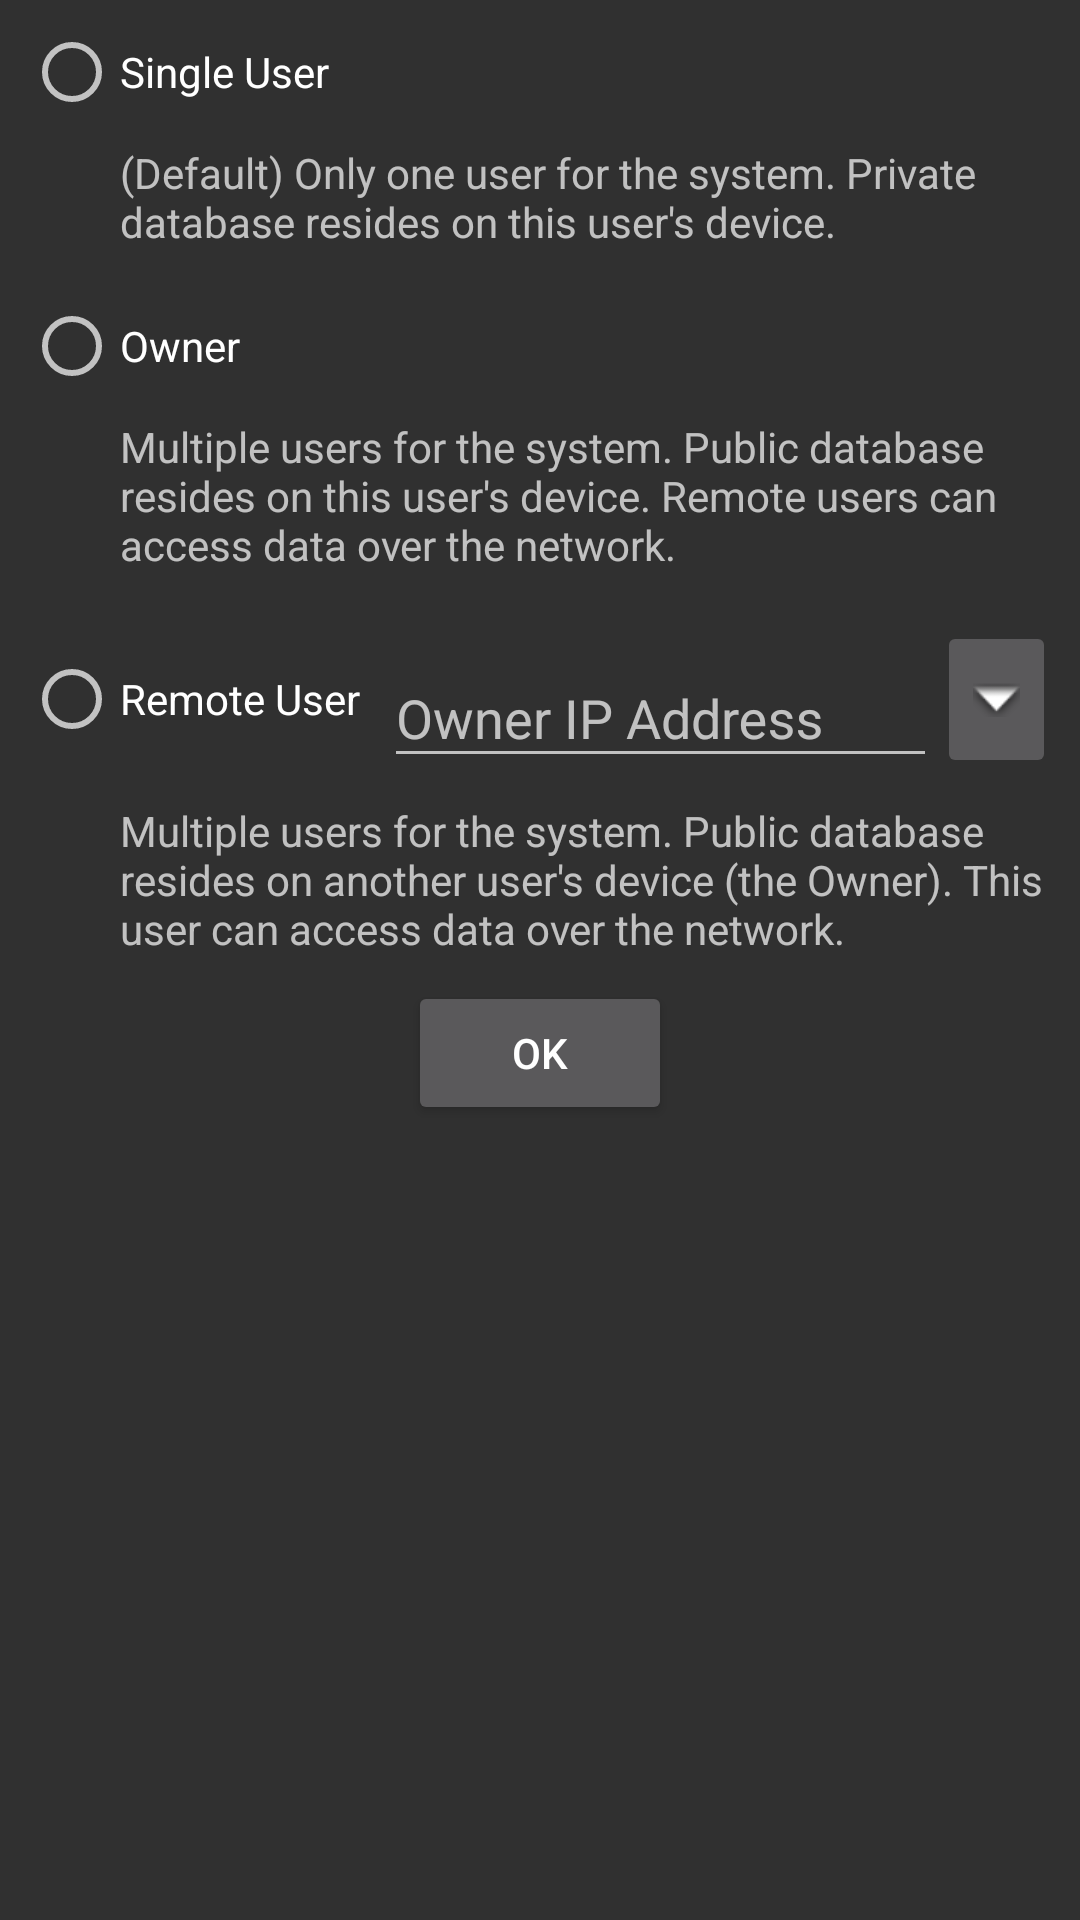

Where icons sit on this 1080 x 1920 app screen, as region(x1, y1, x2, y2):
Down arrow: region(949, 639, 1044, 760)
